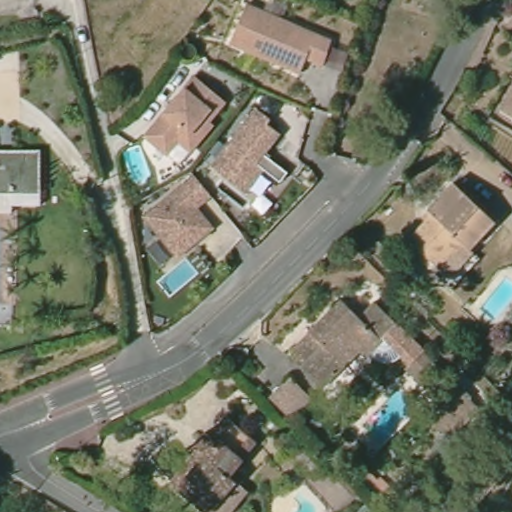pool: (360, 389, 415, 441), (471, 272, 512, 325), (118, 138, 155, 191), (155, 261, 200, 296), (280, 487, 329, 511)
